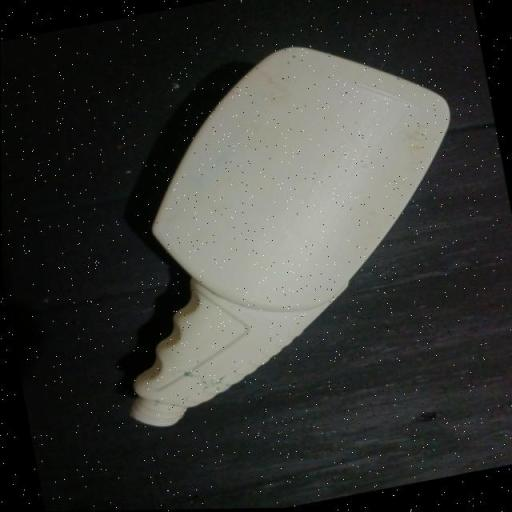plastic: (51, 11, 511, 446)
